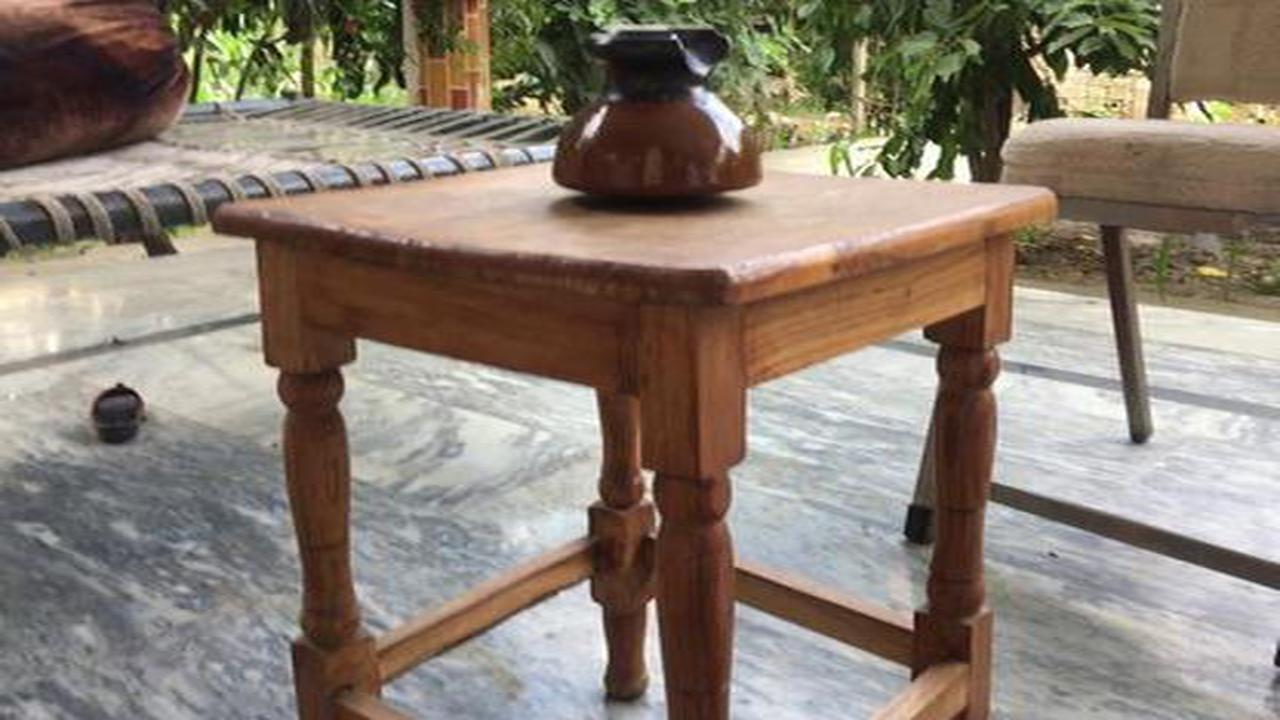insulator_pin: (545, 9, 773, 208)
